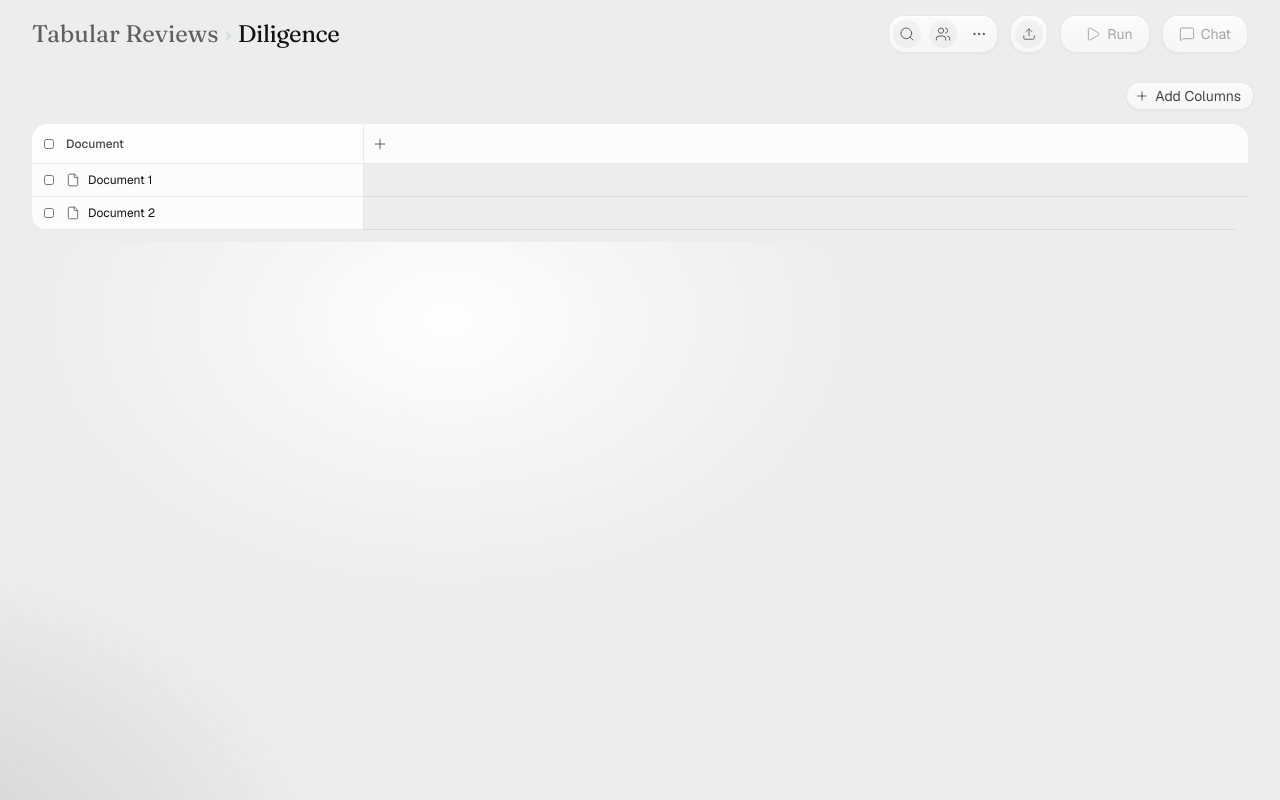
Test: TabularReviewView Add Columns gating › matches toolbar and right-click actions for 1 selected review rows
Step 1. Click the checkbox named "Select Document 1" → (49,180), box [44,175,54,185]
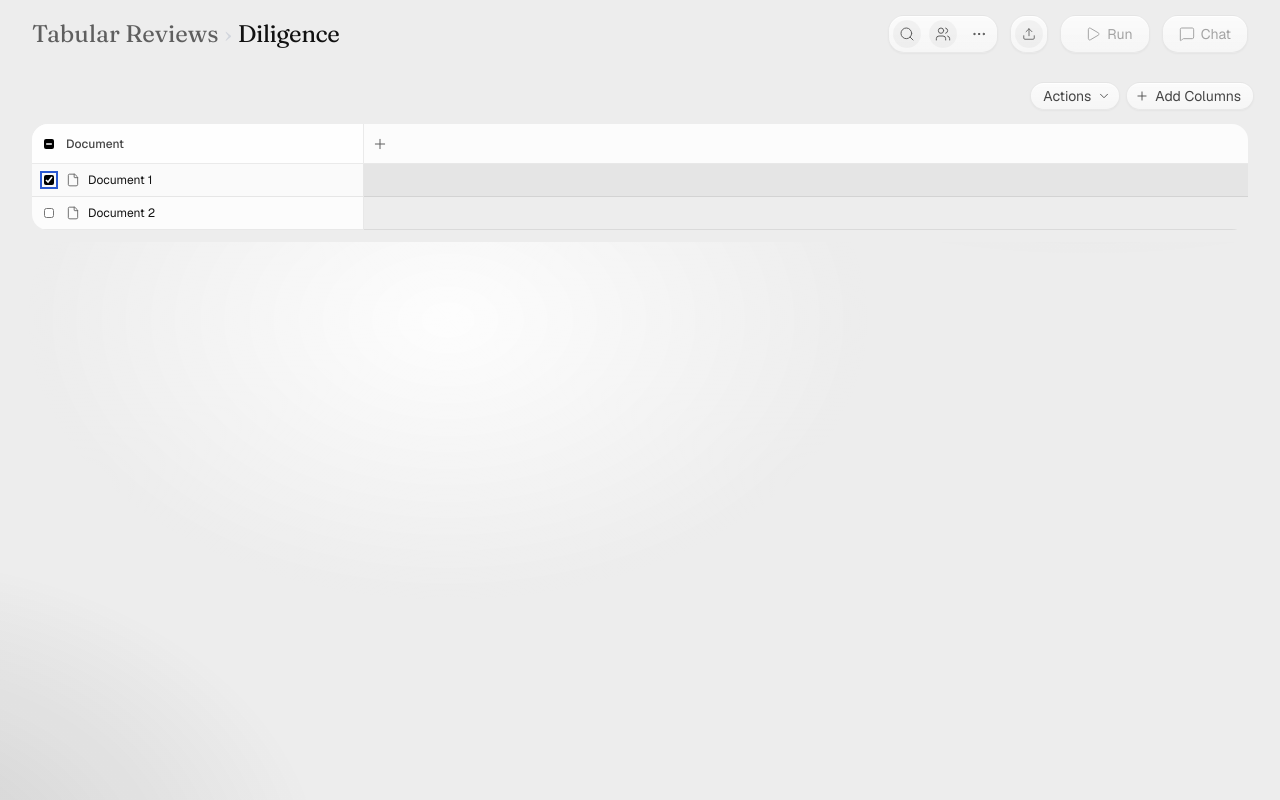
Step 2. Click the button "Actions" → (1075,96), box [1030,82,1120,110]
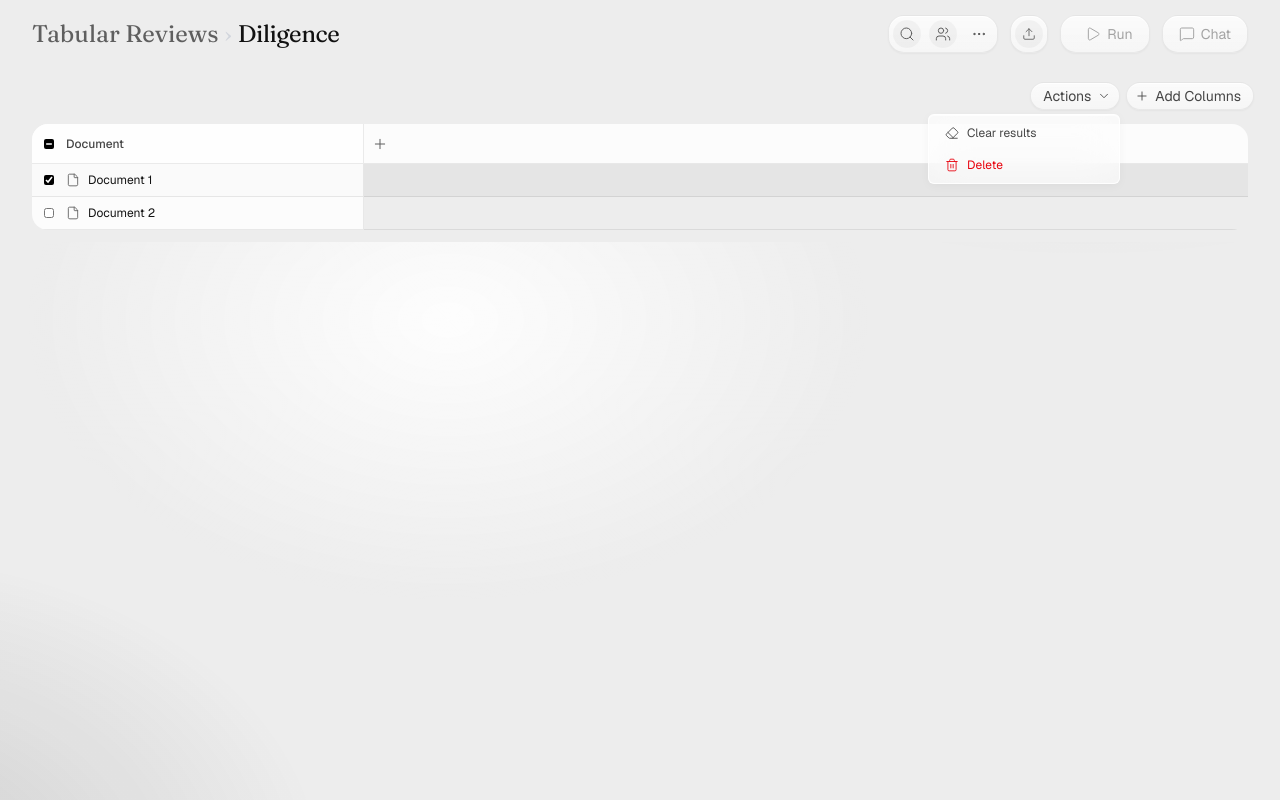
Result: the menu items read "Clear results", "Delete", in this order at [945,125,1036,141]; [945,157,1003,173]
Step 3. Press Escape
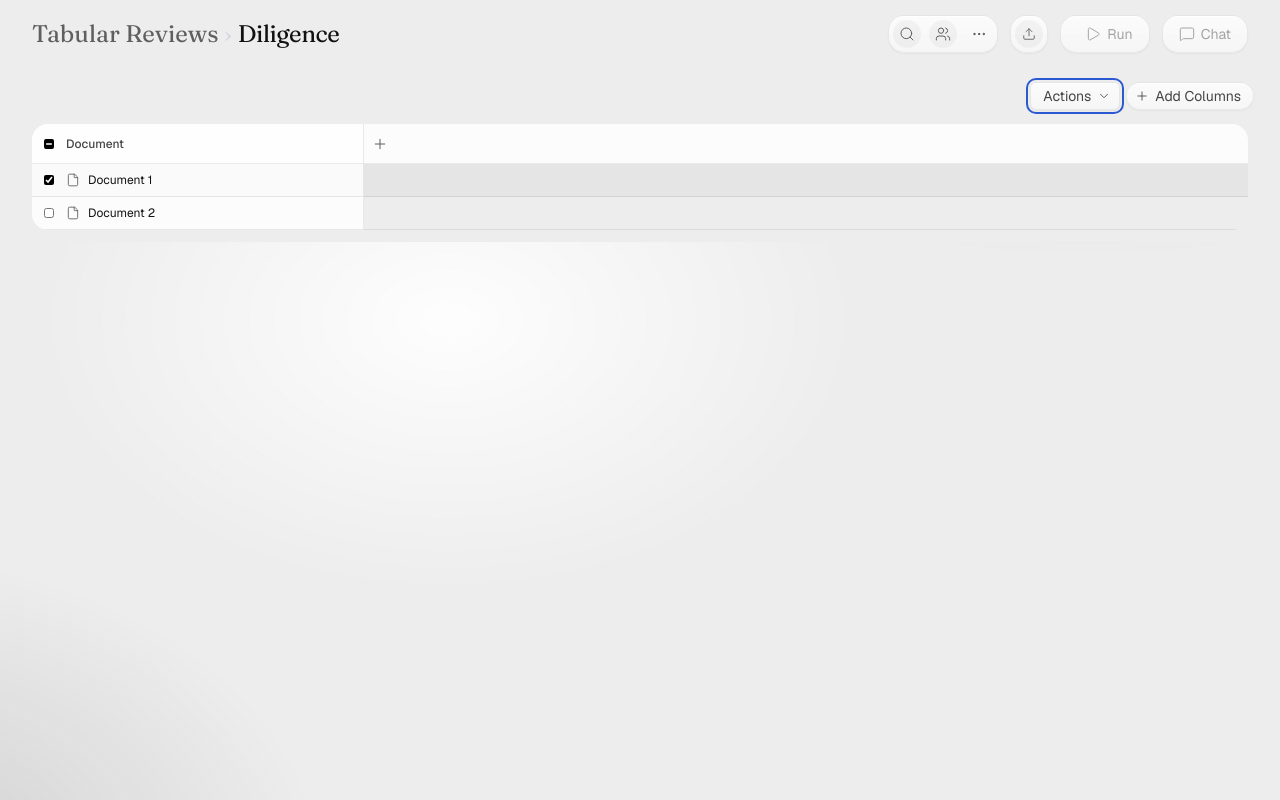
Step 4. Right-click the button "Document 1" → (120,180), box [66,172,355,188]
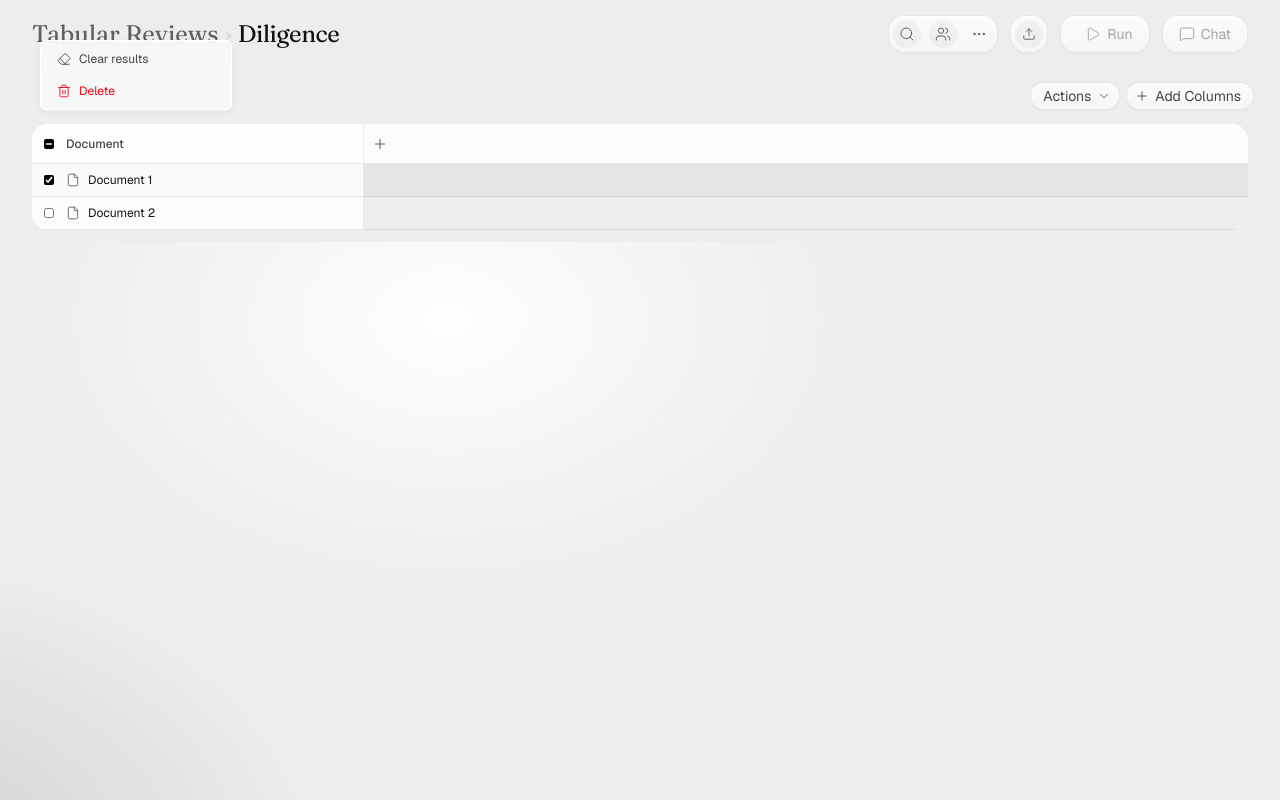
Result: the menu items read "Clear results", "Delete", in this order at [57,51,148,67]; [57,83,115,99]
